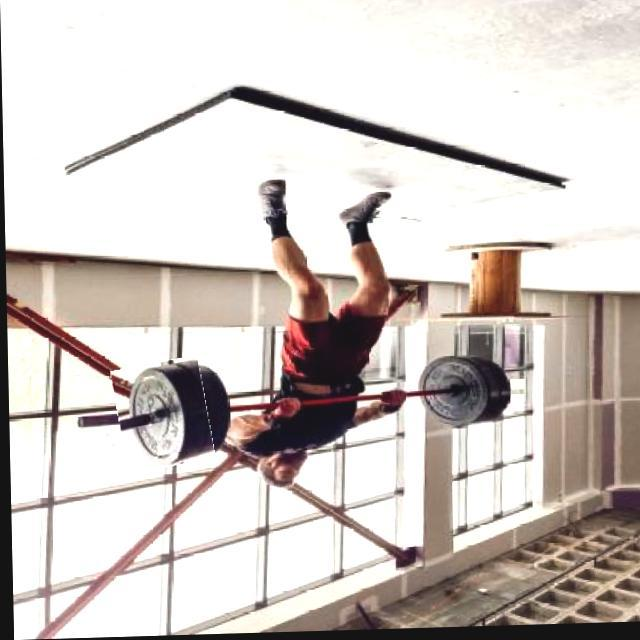barbell: (114, 360, 211, 473)
